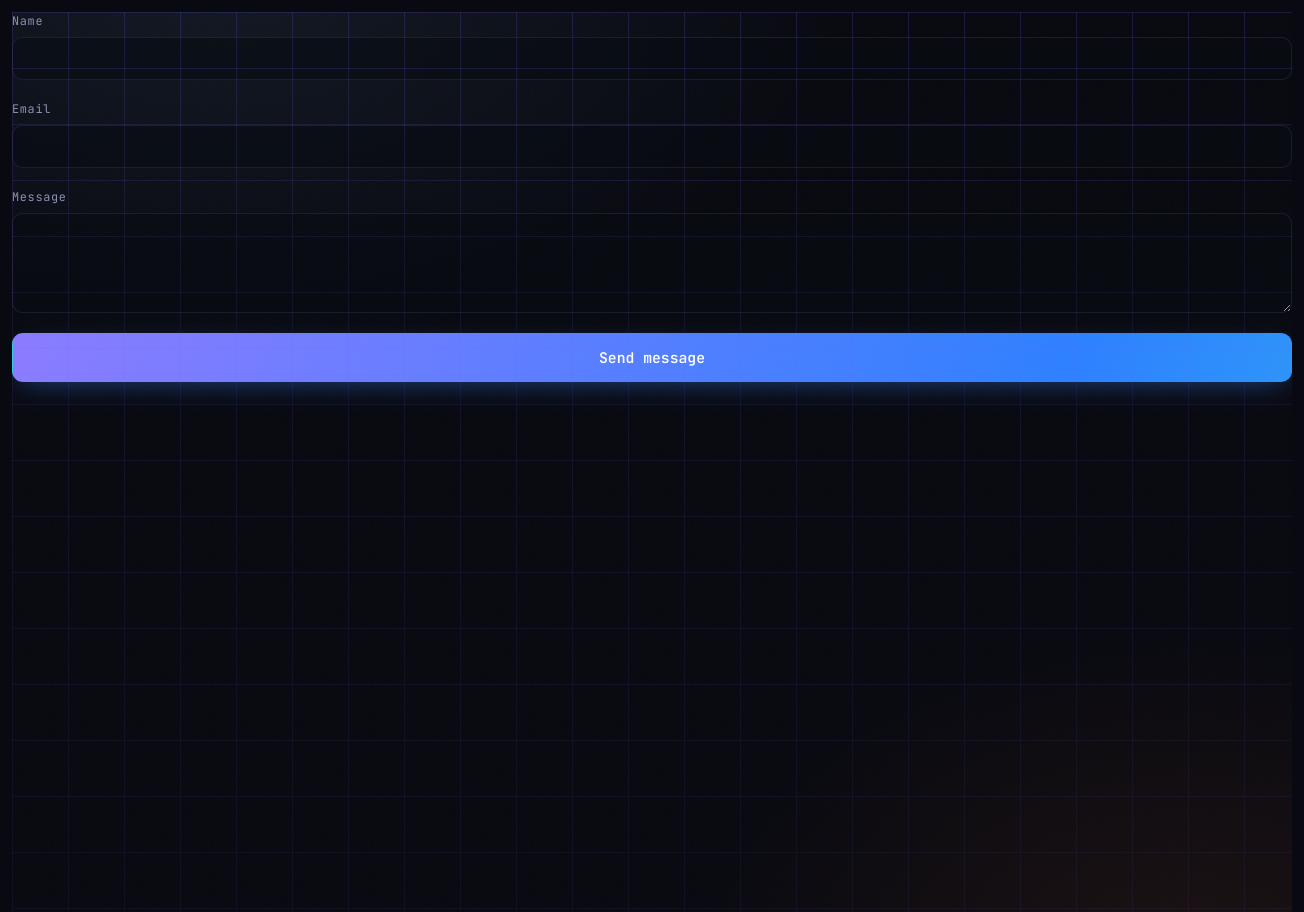
ContactForm › posts the message and shows the success status
In the field labelled "Name": coordinates (652, 58) [12,37,1292,80], type "Recruiter"
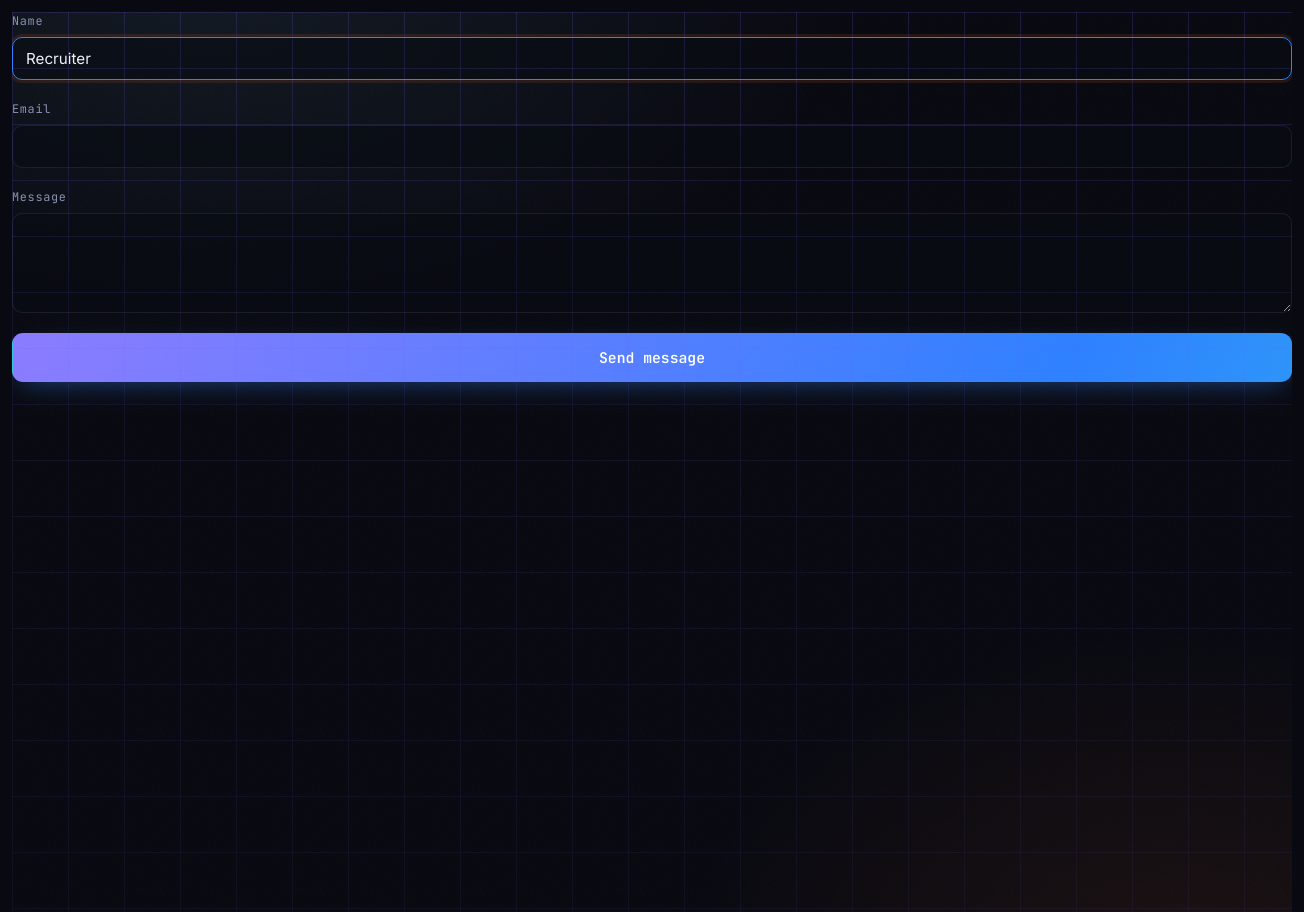
In the field labelled "Email": coordinates (652, 146) [12,125,1292,168], type "r@co.com"
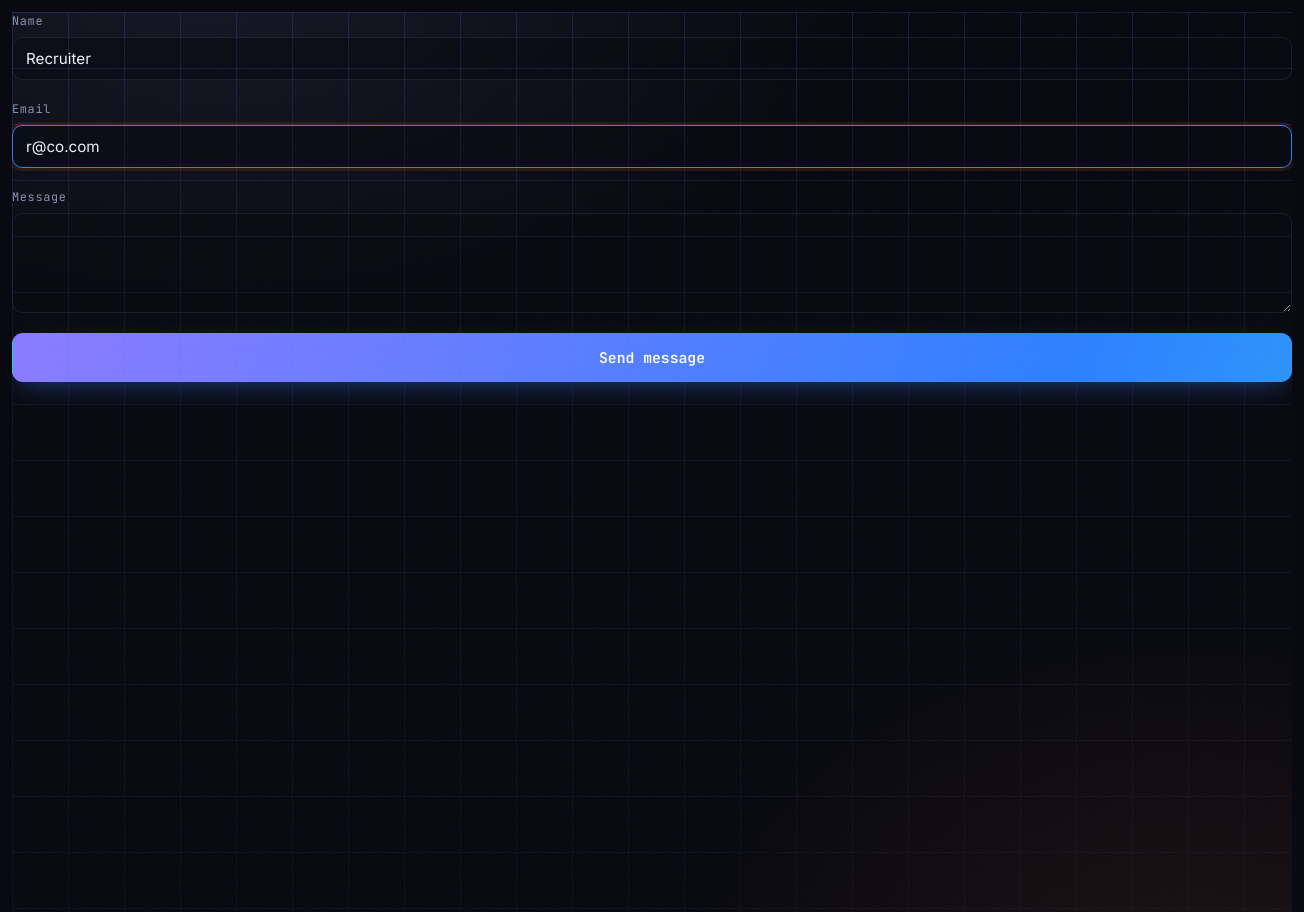
In the text box labelled "Message": coordinates (652, 263) [12,213,1292,313], type "We have a backend role for you."
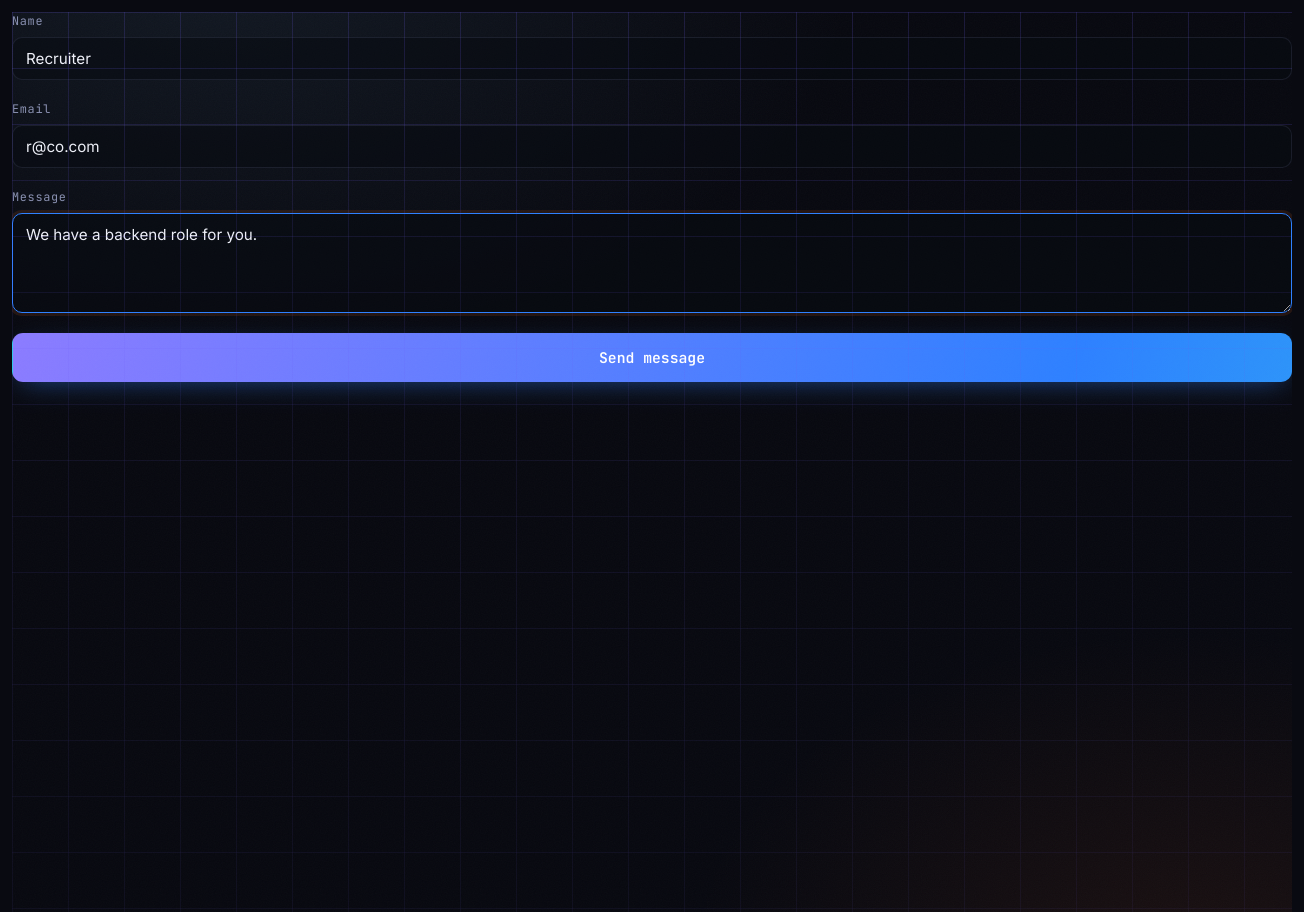
Click the button "Send message": coordinates (652, 357) [12,333,1292,382]
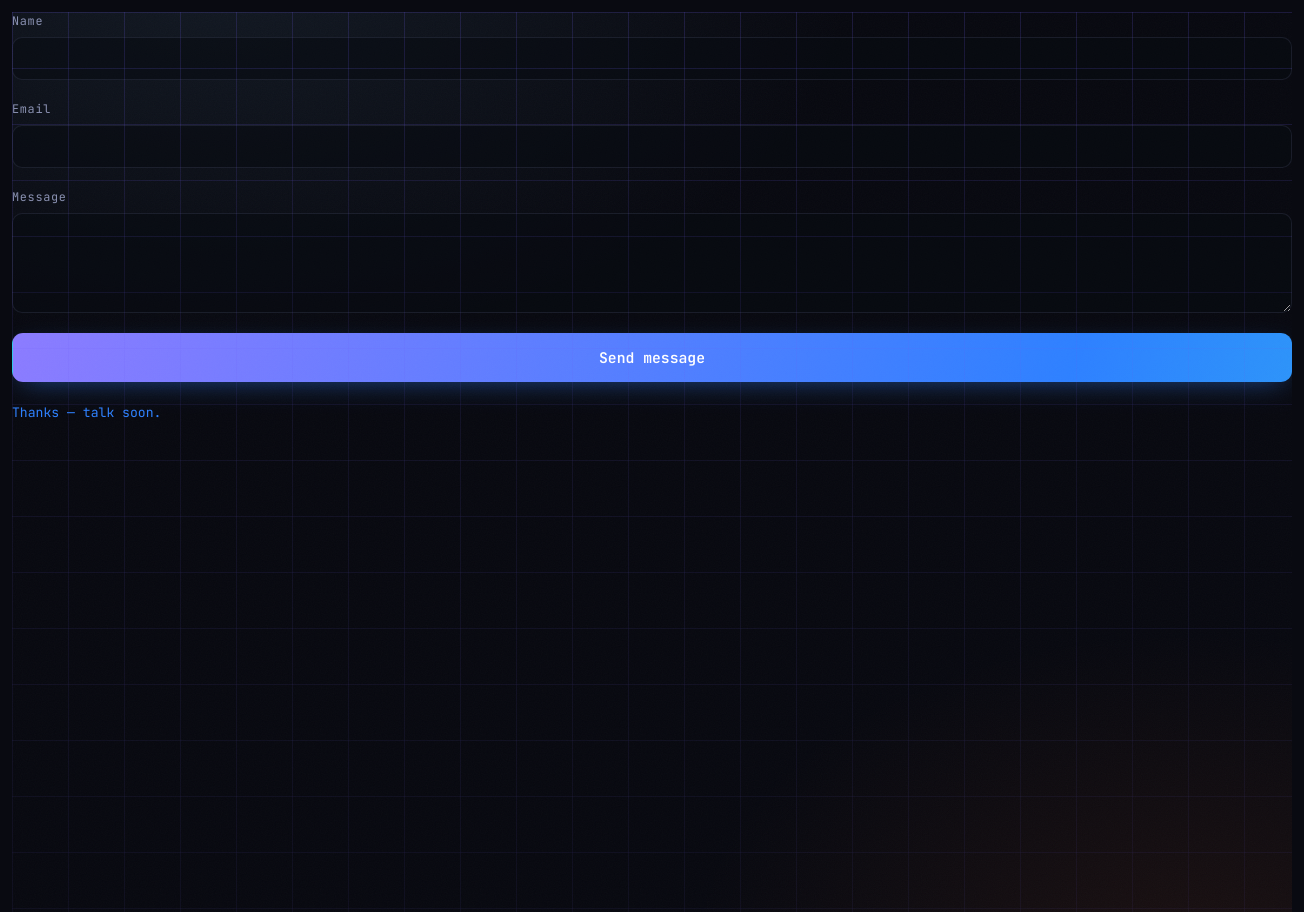
Check: the text "Thanks — talk soon." is shown, box [12,404,162,421]
